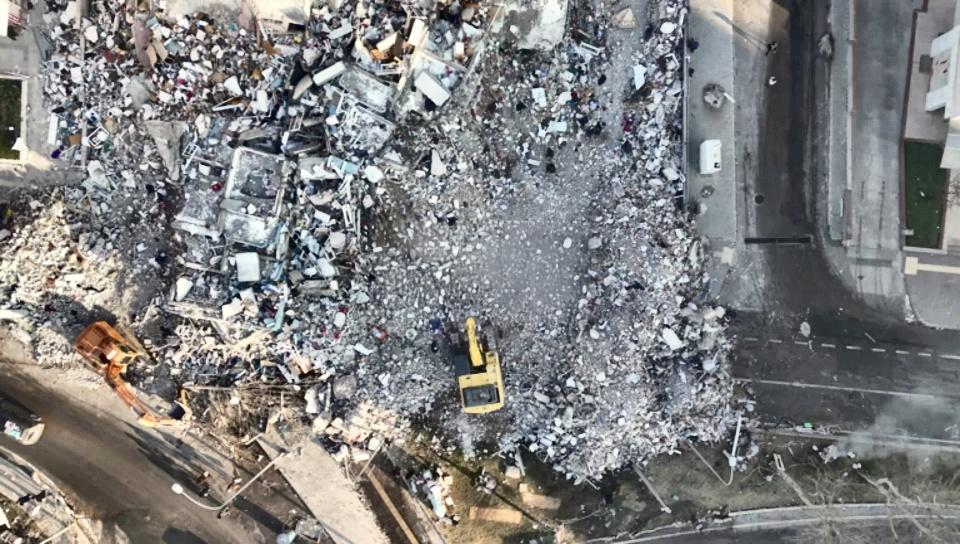kapali: (249, 294, 801, 427)
